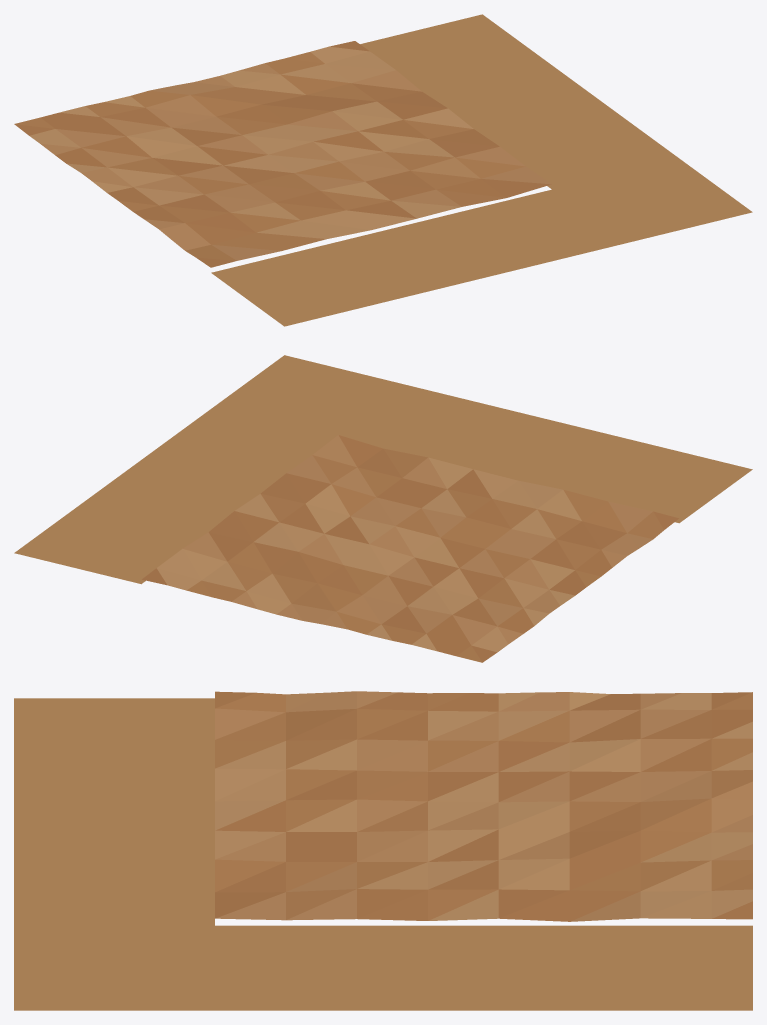
3 renders of one model, top to bottom at view 1: azimuth 30°, elevation 25°; view 2: azimuth 150°, elevation 25°; view 3: azimuth 270°, elevation 25°, orthographic. The views are drawn at different scales.
Visible parts, largest first — view 1: baked; view 2: baked; view 3: baked.
Boxes of the visible parts, bbox=[...] form: baked: bbox=[14, 14, 752, 326]; baked: bbox=[14, 355, 752, 662]; baked: bbox=[14, 691, 752, 1010].
Size of the model in its own units: 125 by 1.39 by 125.
